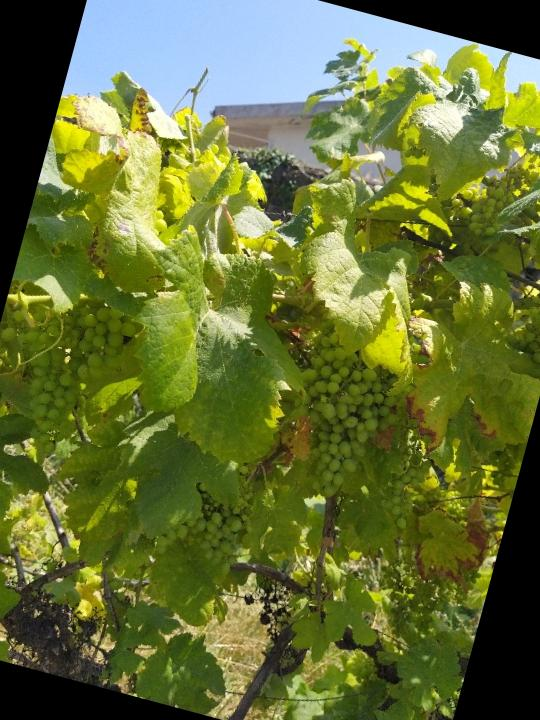grape: (269, 312, 416, 510), (0, 279, 144, 470), (150, 463, 259, 580)
